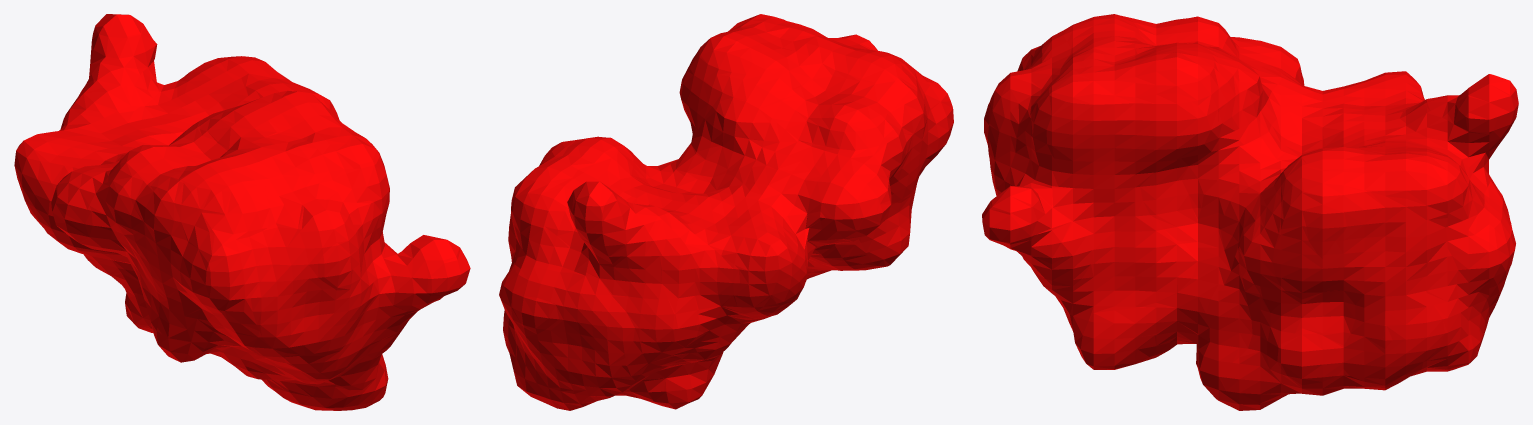
File: ycaC_coarse.dae
3 views of the same model, side by side, from view 1: azimuth 30°, elevation 25°; view 2: azimuth 150°, elevation 25°; view 3: azimuth 270°, elevation 25° (orthographic). The views are drawn at different scales.
Parts seen in each view (by area): view 1: ycaC; view 2: ycaC; view 3: ycaC.
Boxes of the visible parts, x1,y1,x2,y2 form: ycaC: [14, 14, 470, 410]; ycaC: [499, 14, 953, 410]; ycaC: [982, 14, 1518, 410].
Bounding box in the file's own units: 53.29 × 52.72 × 77.43.
